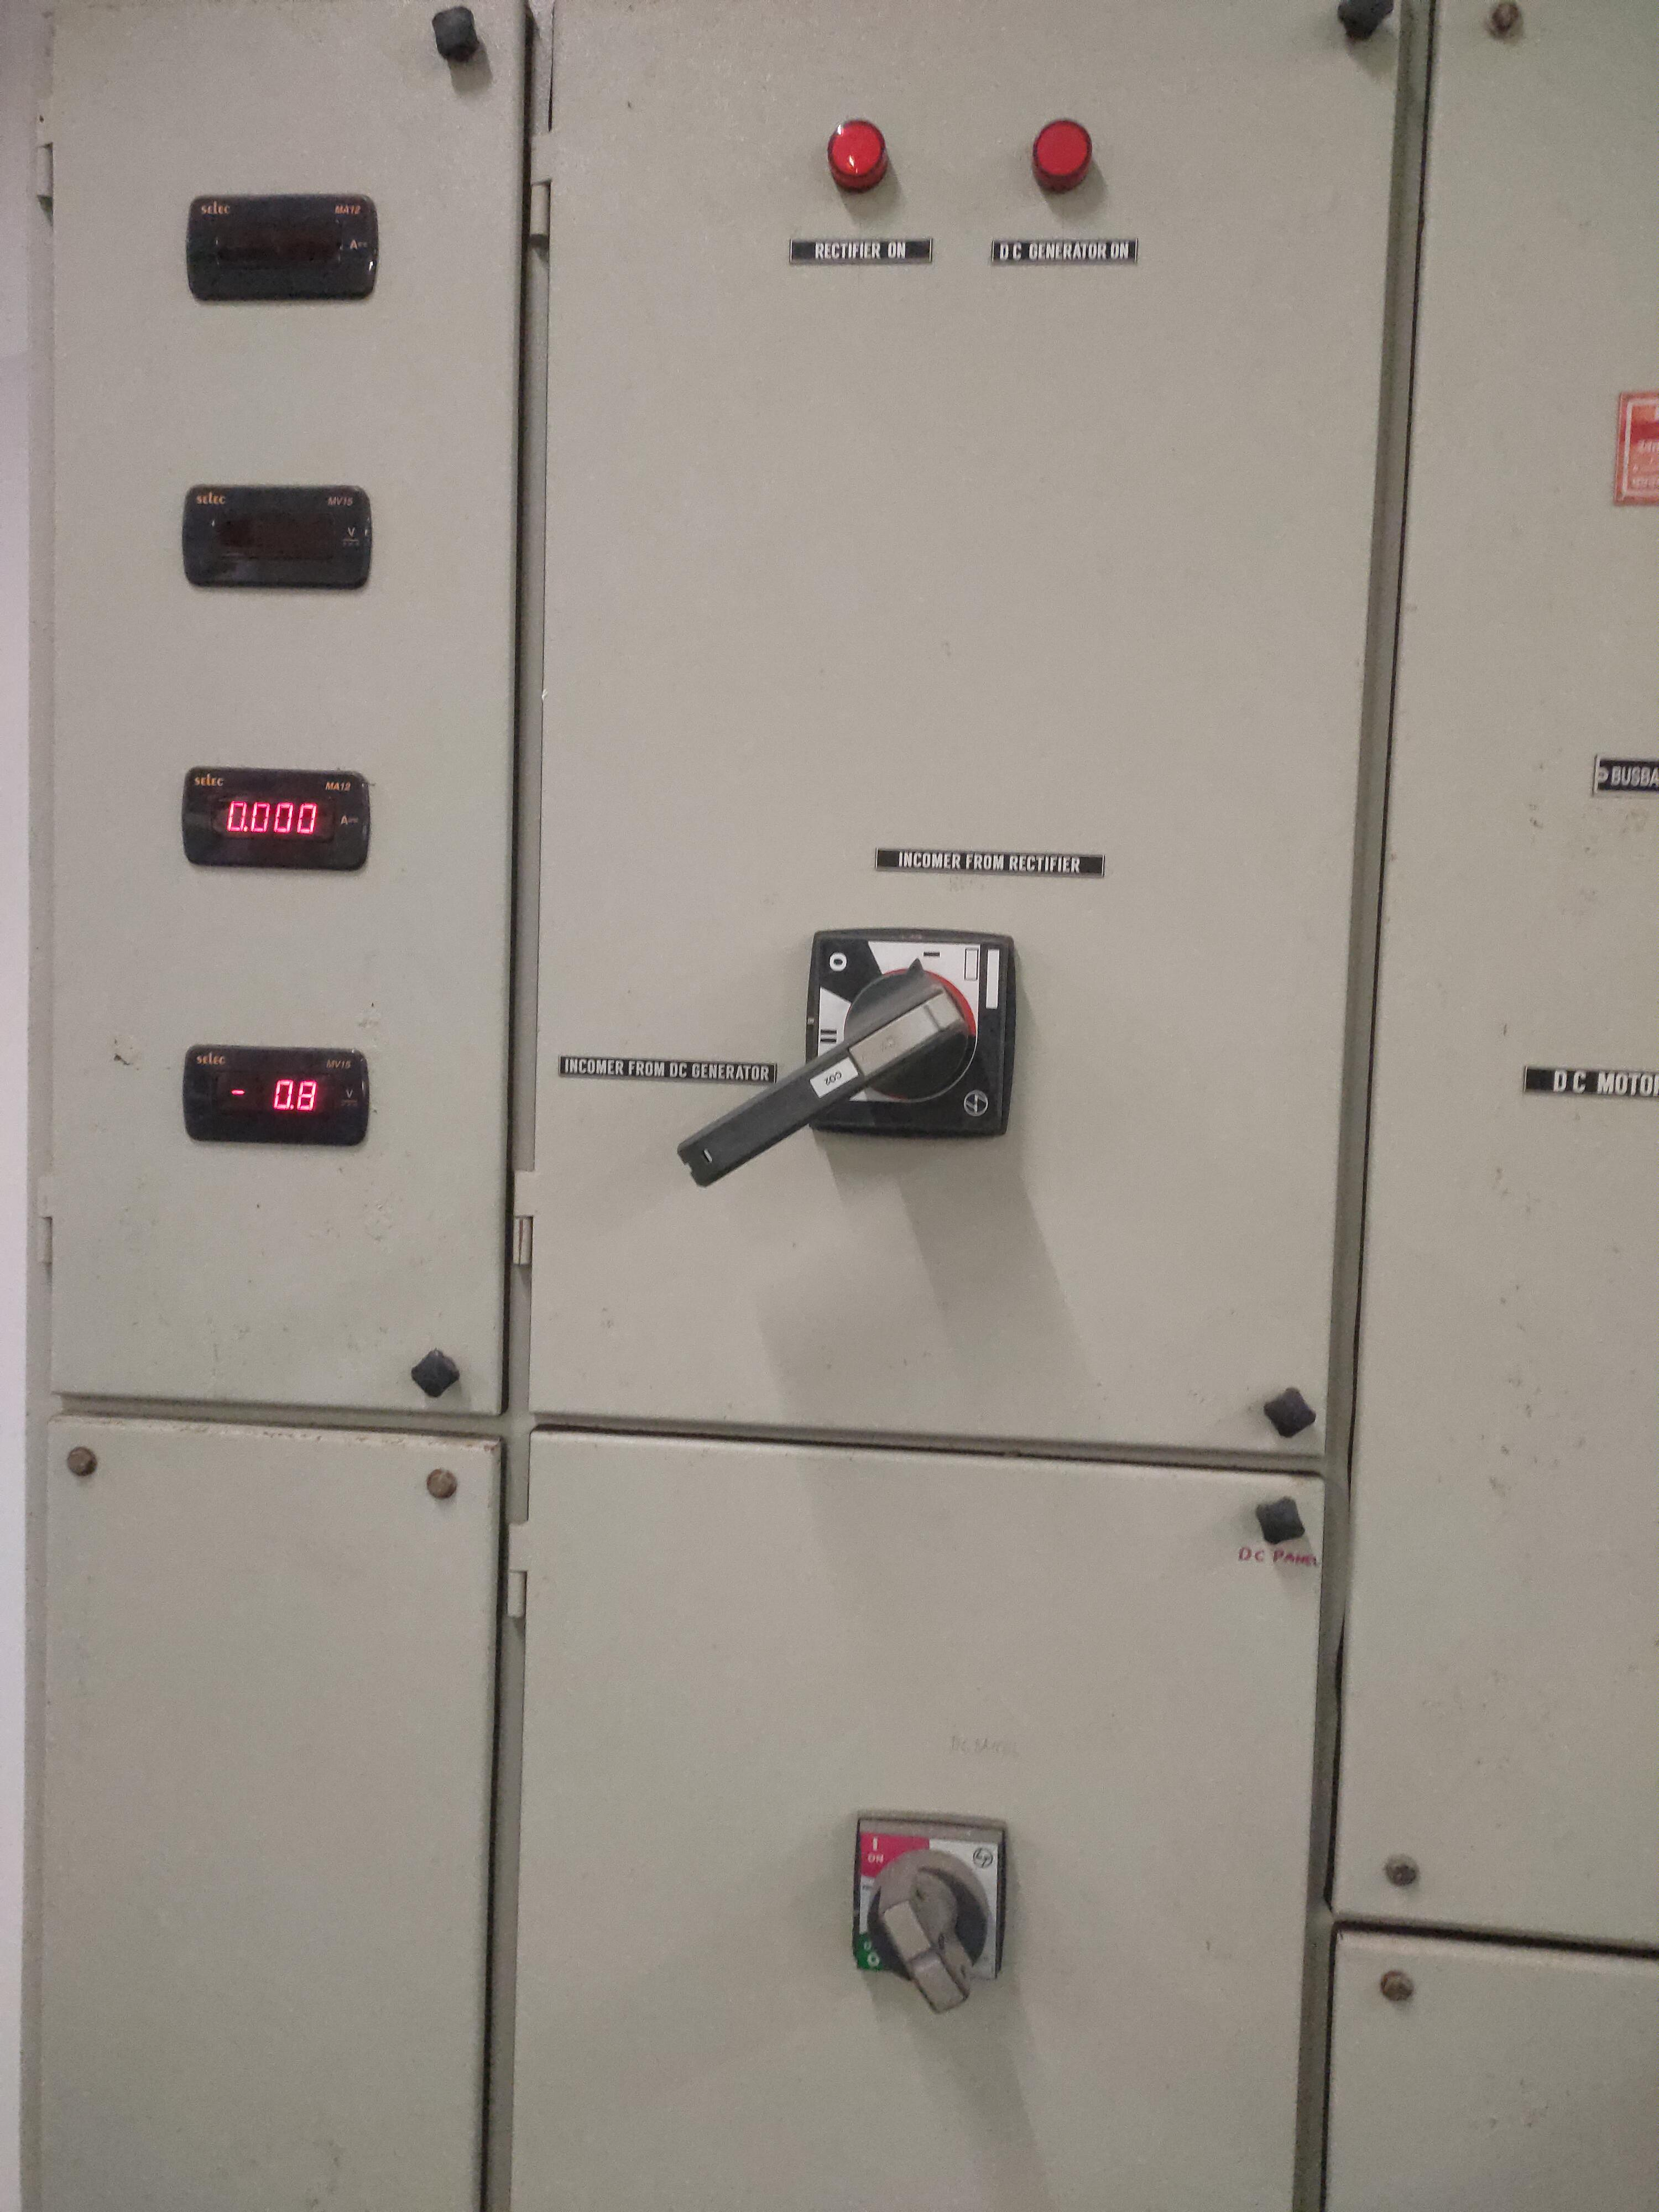Knob 1: (645, 878, 1121, 1207)
Knob 2: (812, 1771, 1032, 2027)
Light Indications: (777, 75, 1164, 273)
